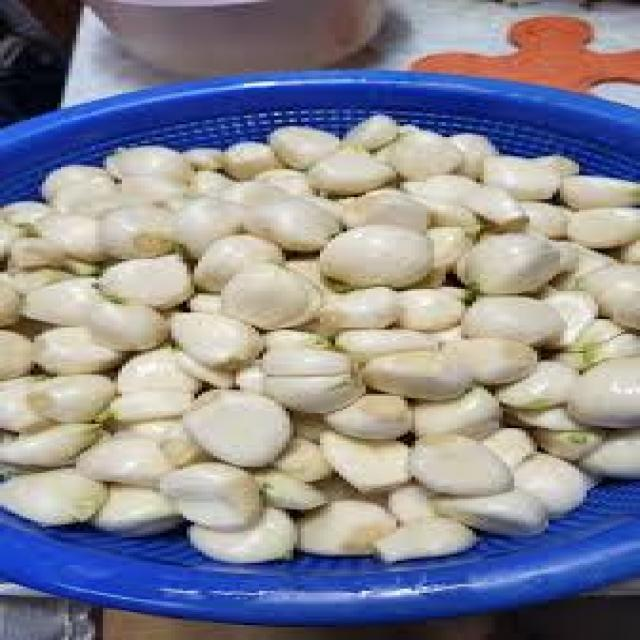garlic: (8, 366, 354, 542), (23, 199, 343, 373), (286, 212, 571, 400)
